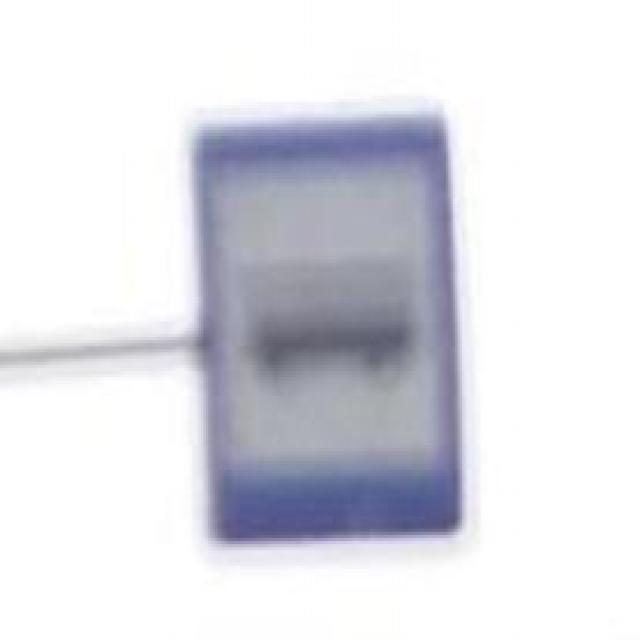traffic sign: (192, 118, 462, 542)
